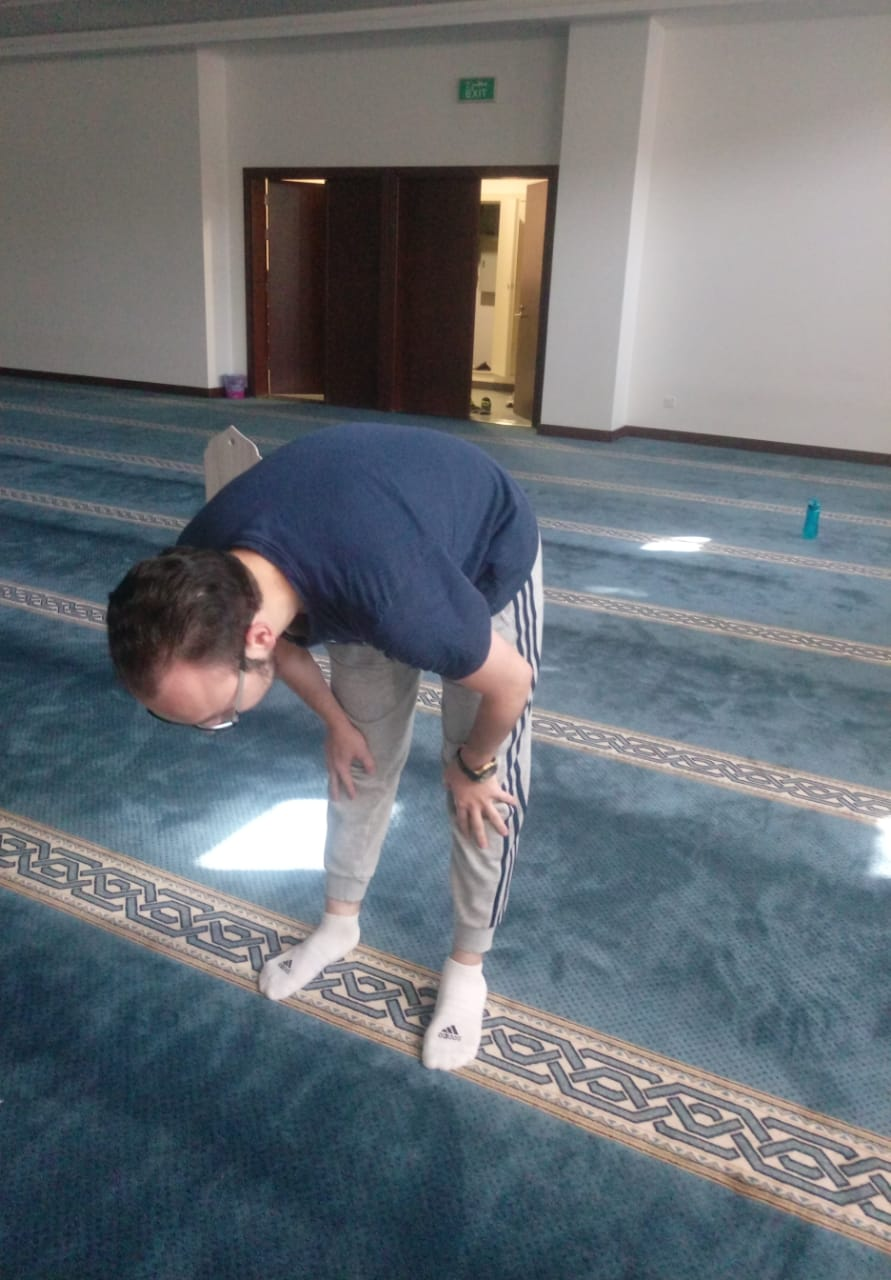ruku: (91, 355, 713, 1164)
